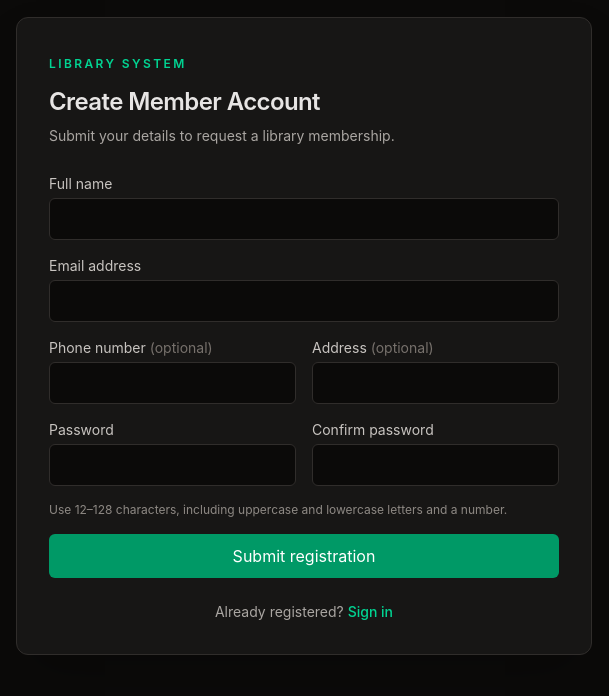
it: member registration page › shows a duplicate-email response from the real API
Type "Alex Member" into the field labelled "Full name" at (304, 219), box [49,198,559,240]
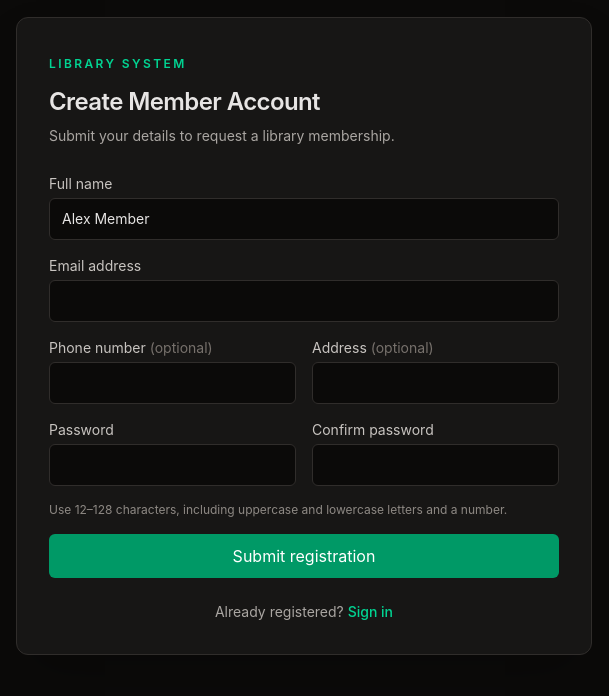
Type "alex@example.com" into the field labelled "Email address" at (304, 301), box [49,280,559,322]
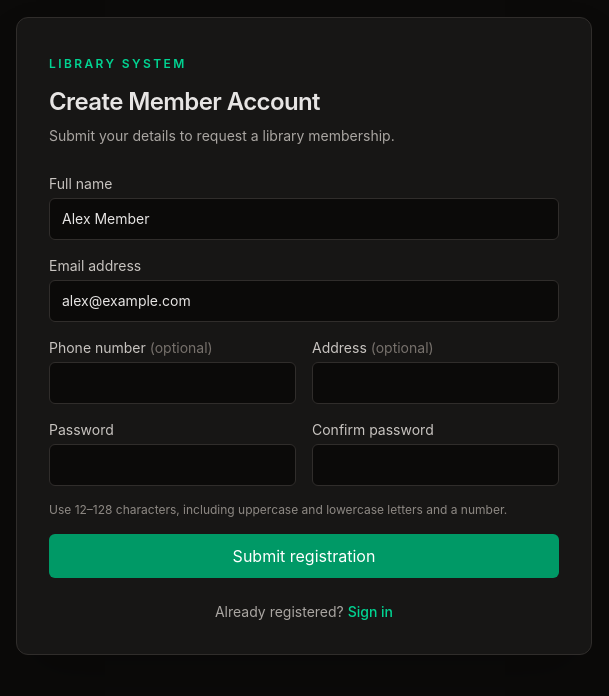
Type "LibraryPassword2026" into the password field labelled "Password" at (172, 465), box [49,444,296,486]
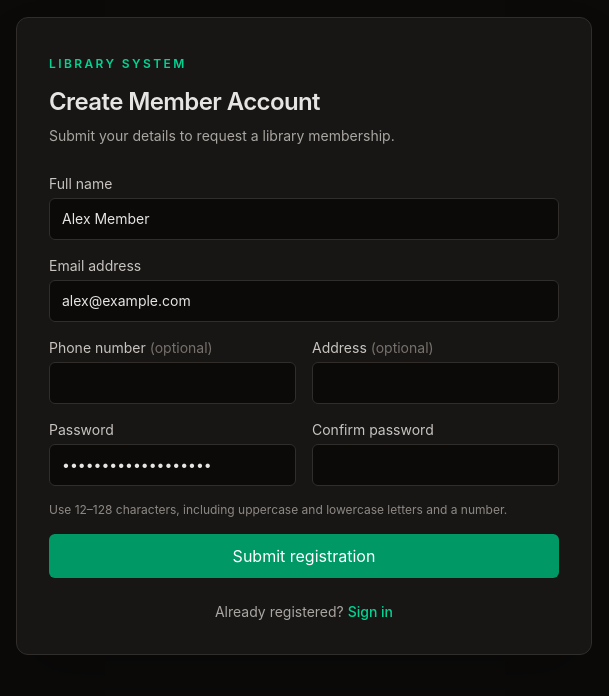
Type "LibraryPassword2026" into the password field labelled "Confirm password" at (436, 465), box [312,444,559,486]
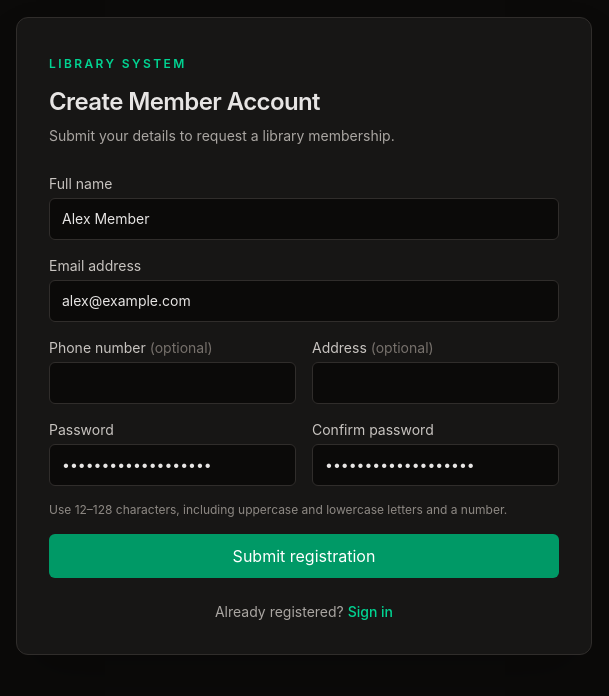
Click the button "Submit registration" at (304, 556), box [49,534,559,578]
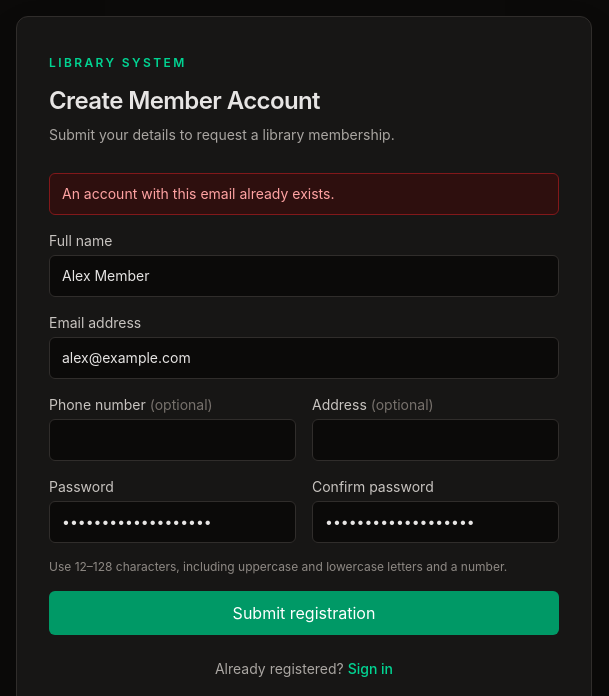
Check: the message reads "An account with this email already exists.", box [62,185,334,202]
